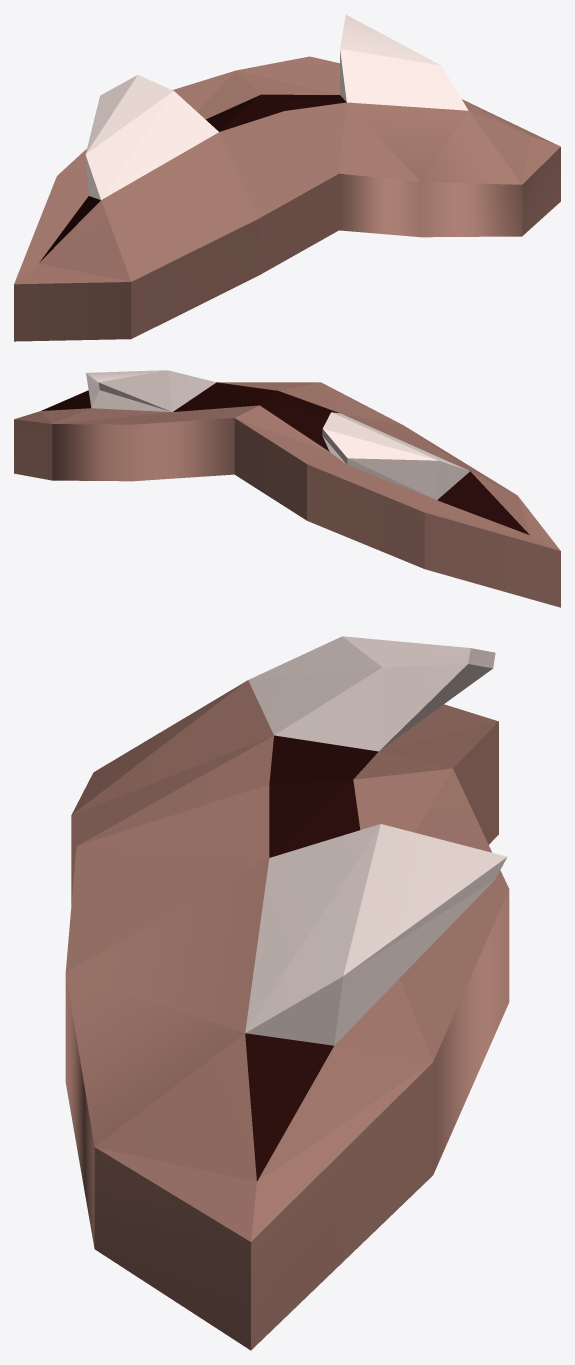
File: Mouth 10.FBX
3 views of the same model, one above another, from view 1: azimuth 30°, elevation 25°; view 2: azimuth 150°, elevation 25°; view 3: azimuth 270°, elevation 25° (orthographic). The views are drawn at different scales.
Parts seen in each view (by area): view 1: Mouth 10; view 2: Mouth 10; view 3: Mouth 10.
Part boxes in pixels (x1,y1,x2,y2): Mouth 10: (14, 14, 560, 341); Mouth 10: (14, 370, 560, 607); Mouth 10: (65, 636, 509, 1350).
Bounding box in the file's own units: 8.27 × 2.58 × 2.92.
Materials: 1 (1 with a texture image).
